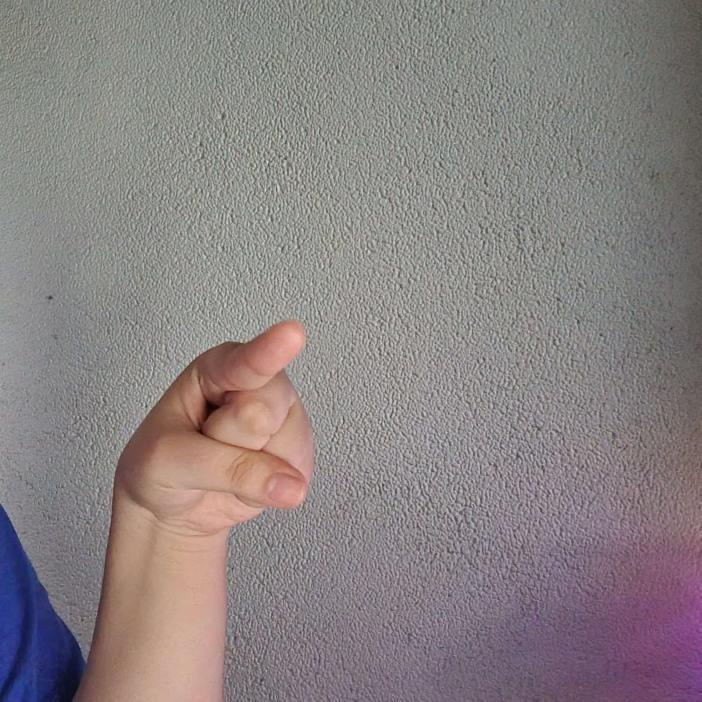z: (115, 319, 316, 553)
